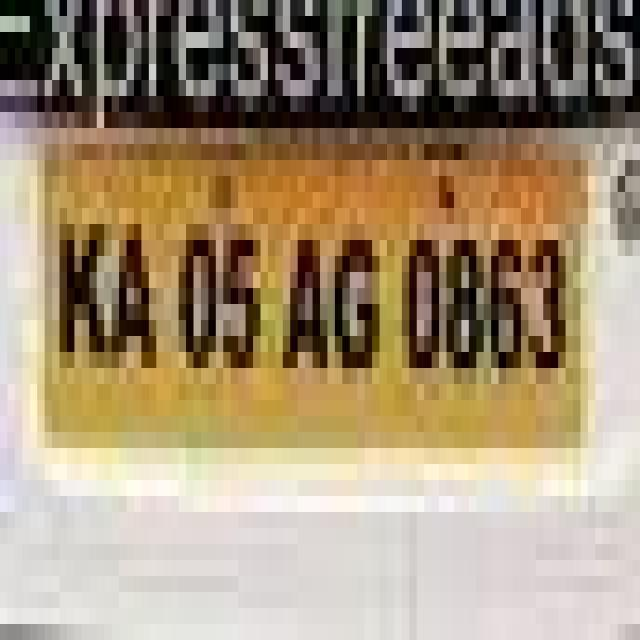0: (173, 228, 220, 394), (398, 221, 442, 391)
3: (523, 223, 570, 387)
5: (218, 232, 270, 392)
6: (488, 230, 528, 380)
8: (440, 230, 492, 382)
A: (113, 218, 163, 396), (279, 229, 335, 383)
G: (328, 223, 388, 378)
K: (53, 202, 111, 377)
